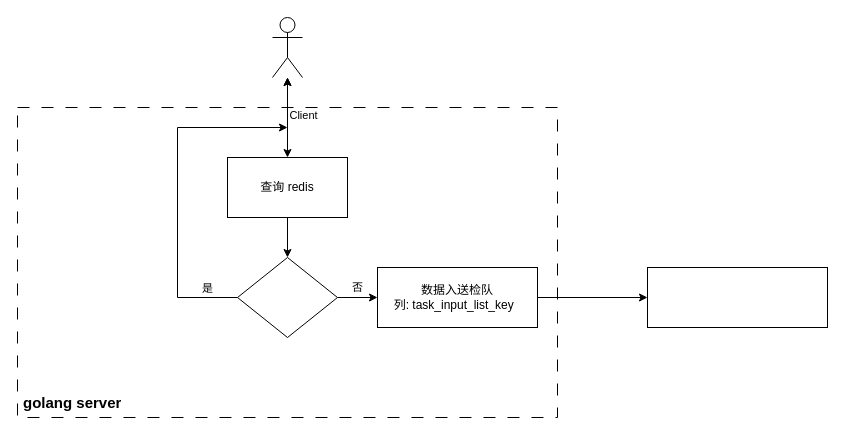
Image size: 845x435. Some labels were removed from this diagram. The shapes that lost their labels are listed below. From the top down, each one's box as (x1, y1, x2, y2) in pixels, then its label:
(236, 256, 338, 338): 是否命中
(646, 266, 828, 328): redis 数据库
